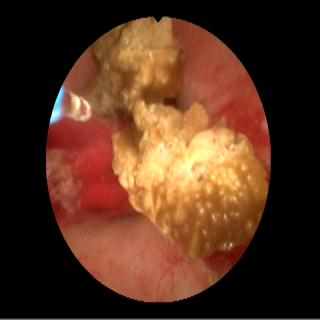stone: (86, 19, 265, 261)
tissue: (49, 121, 242, 295)
